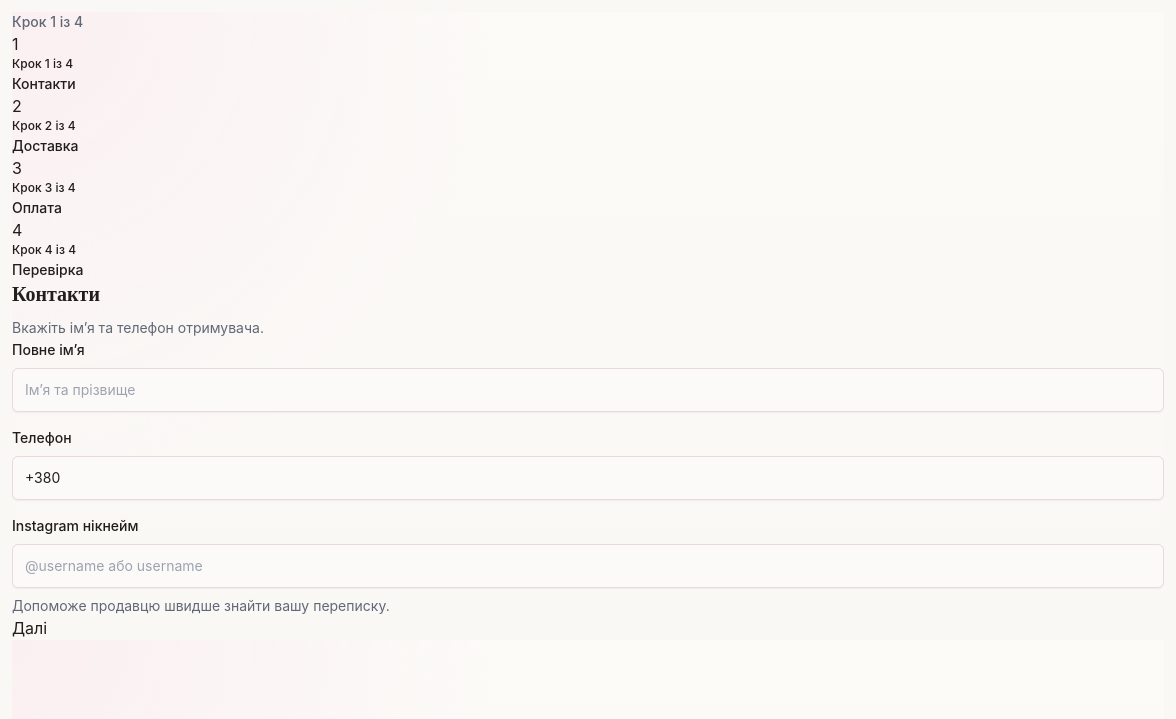
Test: DeliveryForm › renders Ukrainian step navigation and validates contacts first
This screenshot has width=1176, height=719.
Check: the heading "Контакти" is shown, box [12,283,100,305]
Check: the 1st text "Крок 1 із 4" is shown, box [12,13,83,30]
What coordinates should you click on to do the following:
click the button "Далі"
I would click on:
 (30, 628)
Its box is [12,616,47,640].
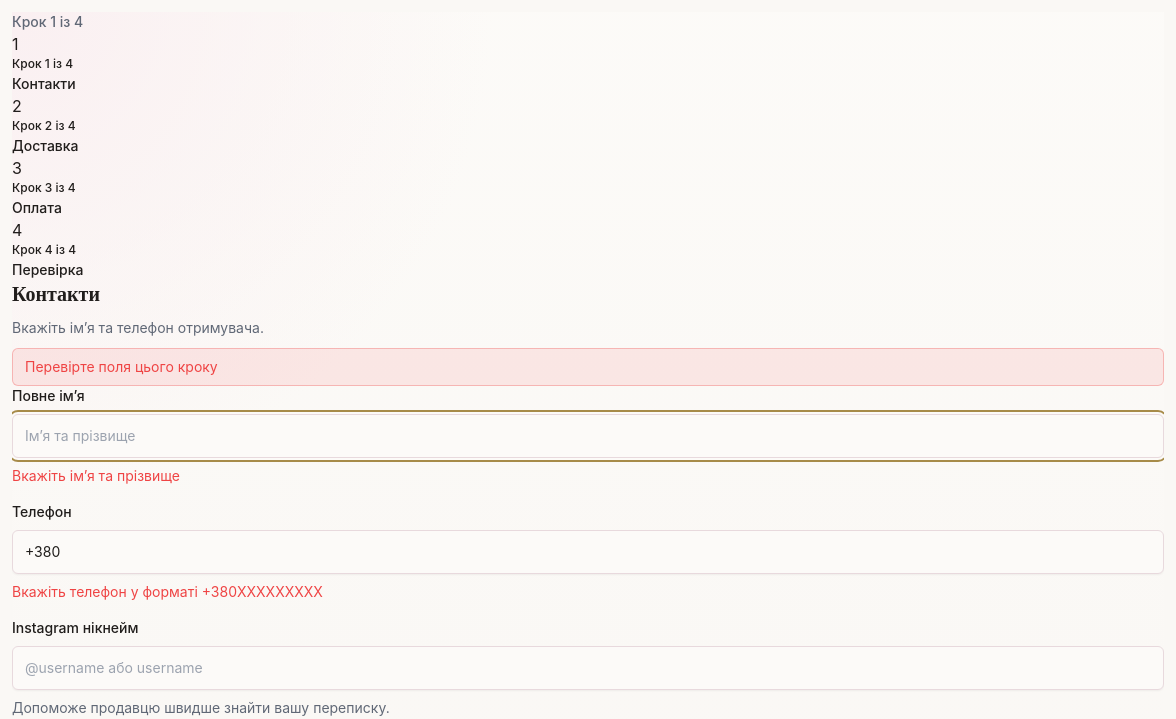
Check: the heading "Контакти" is shown, box [12,283,100,305]
Check: the text "Вкажіть ім’я та прізвище" is shown, box [12,467,180,484]
Check: the text "Вкажіть телефон у форматі +380XXXXXXXXX" is shown, box [12,583,323,600]
